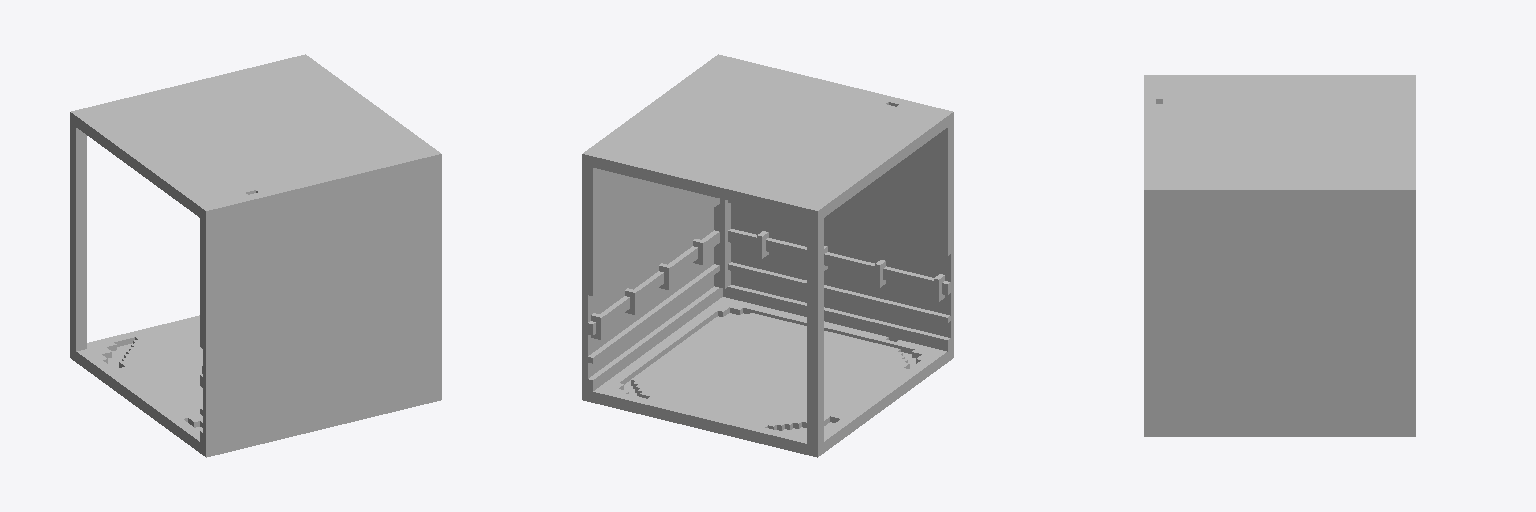
The model's file is hallway pieces-4.obj.
3 views of the same model, side by side, from view 1: azimuth 30°, elevation 25°; view 2: azimuth 150°, elevation 25°; view 3: azimuth 270°, elevation 25° (orthographic).
Parts seen in each view (by area): view 1: object 1; view 2: object 1; view 3: object 1.
Boxes of the visible parts, x1,y1,x2,y2 form: object 1: [70, 54, 441, 457]; object 1: [582, 54, 953, 457]; object 1: [1144, 75, 1415, 436].
Bounding box in the file's own units: 4.4 × 4.4 × 4.4.